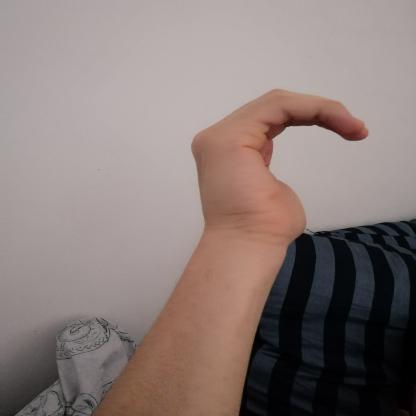HAA: (173, 78, 384, 254)
